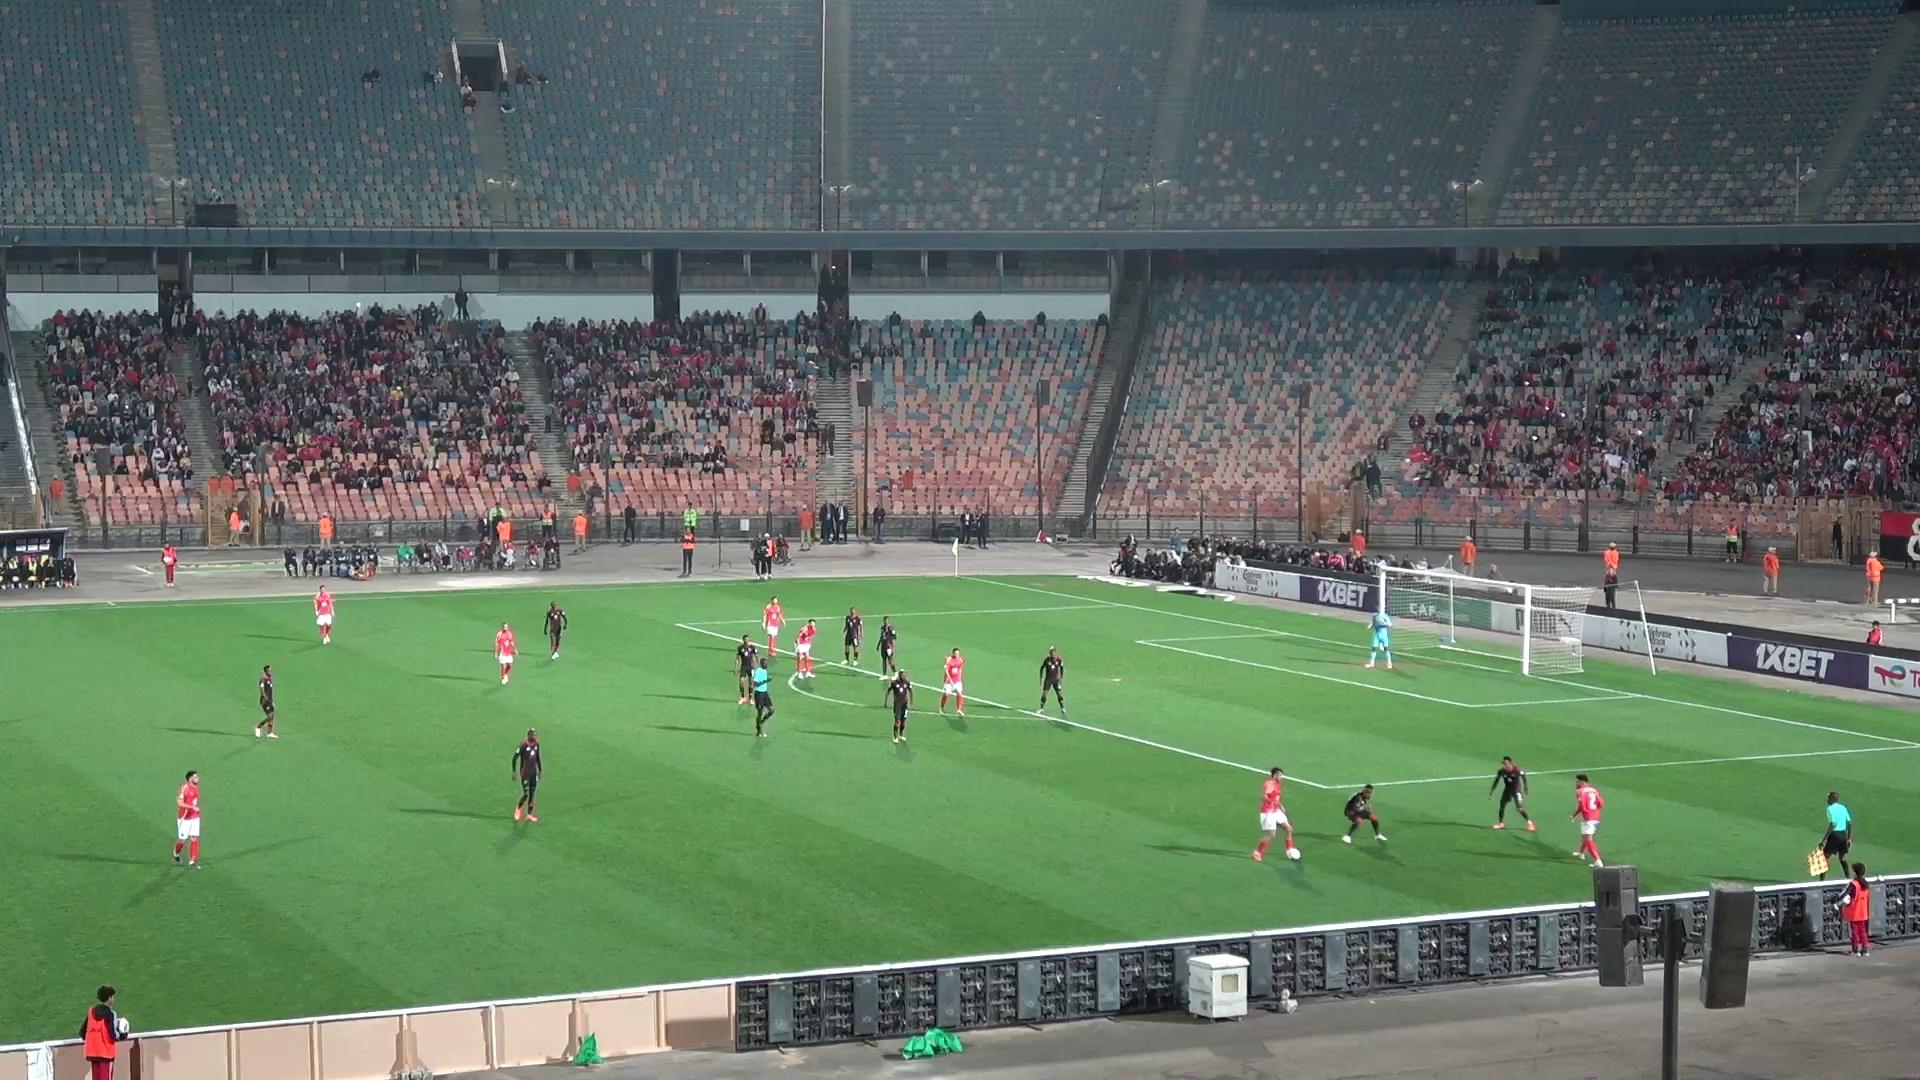Ball: (1286, 839, 1300, 862)
GK2: (1364, 607, 1393, 669)
Refree: (1807, 791, 1863, 880), (738, 650, 775, 738)
Team1: (1251, 767, 1302, 860), (1571, 773, 1604, 865), (173, 769, 202, 866), (939, 647, 967, 716), (491, 622, 518, 684), (310, 585, 335, 644), (761, 596, 785, 647), (794, 620, 815, 676)
Team2: (1487, 756, 1536, 832), (512, 729, 543, 822), (1342, 785, 1387, 843), (733, 634, 767, 705), (884, 670, 915, 742), (1033, 647, 1067, 713), (539, 601, 570, 661), (251, 683, 281, 738), (840, 607, 864, 667), (876, 615, 898, 678)
